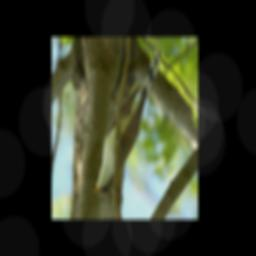Cuckoo: (91, 50, 160, 197)
